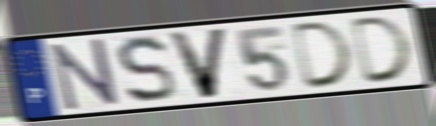5: (232, 23, 294, 94)
D: (289, 18, 357, 92), (349, 13, 417, 87)
N: (48, 36, 122, 113)
S: (114, 33, 179, 106)
V: (164, 25, 232, 102)
